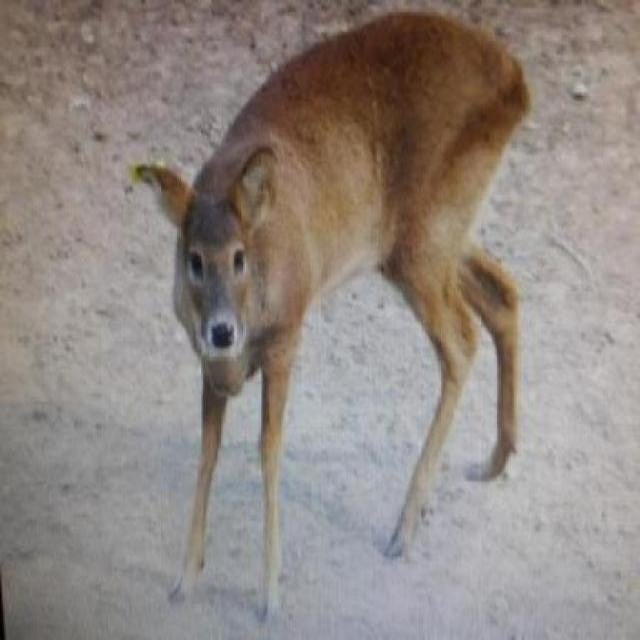deer: (110, 13, 548, 638)
